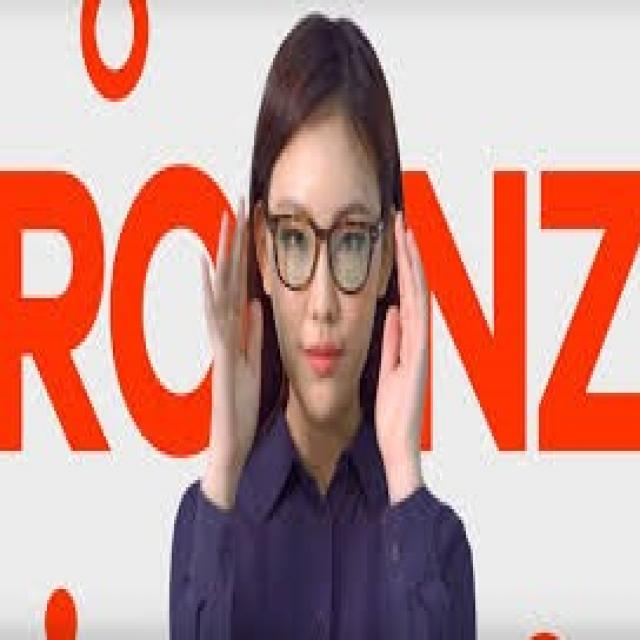Glasses: (254, 182, 395, 302)
